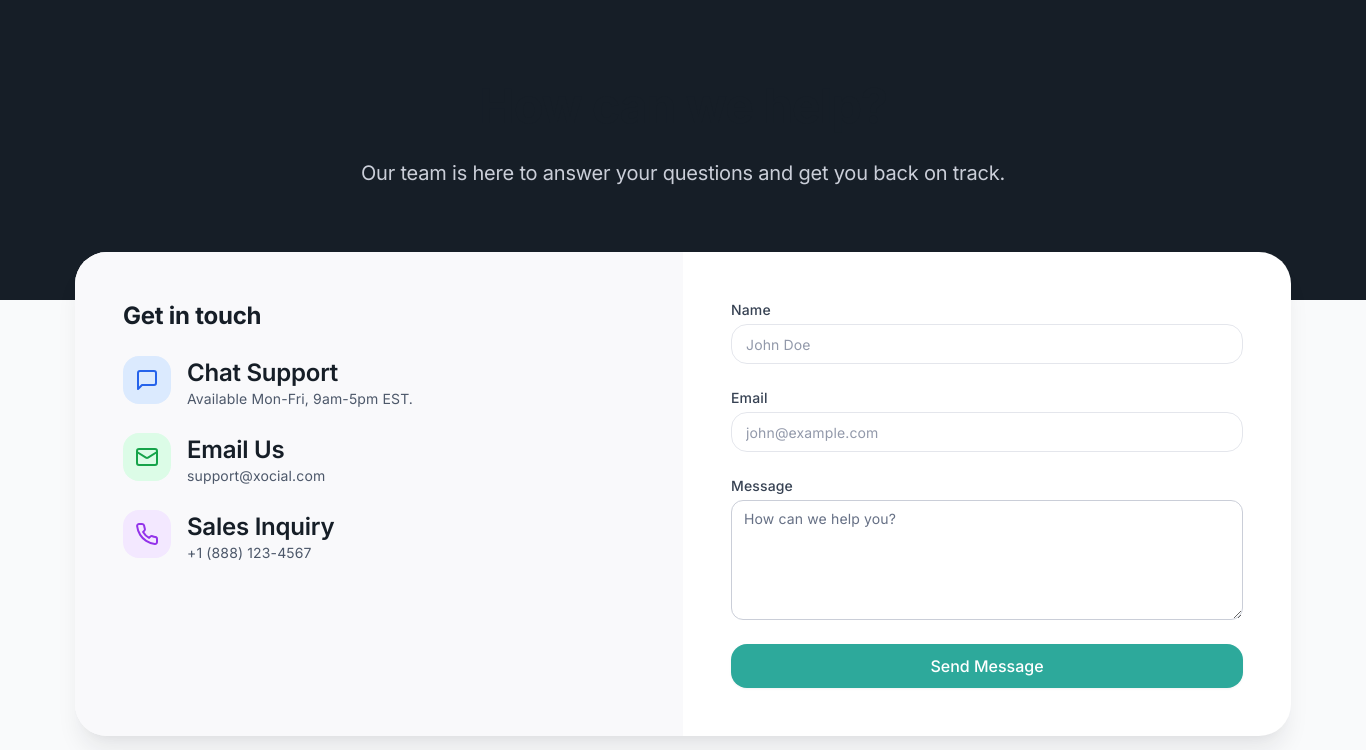
SupportPage › submits the support form and shows success
In the field labelled "Name": [987, 344] box x1=731 y1=324 x2=1243 y2=364, type "Jane"
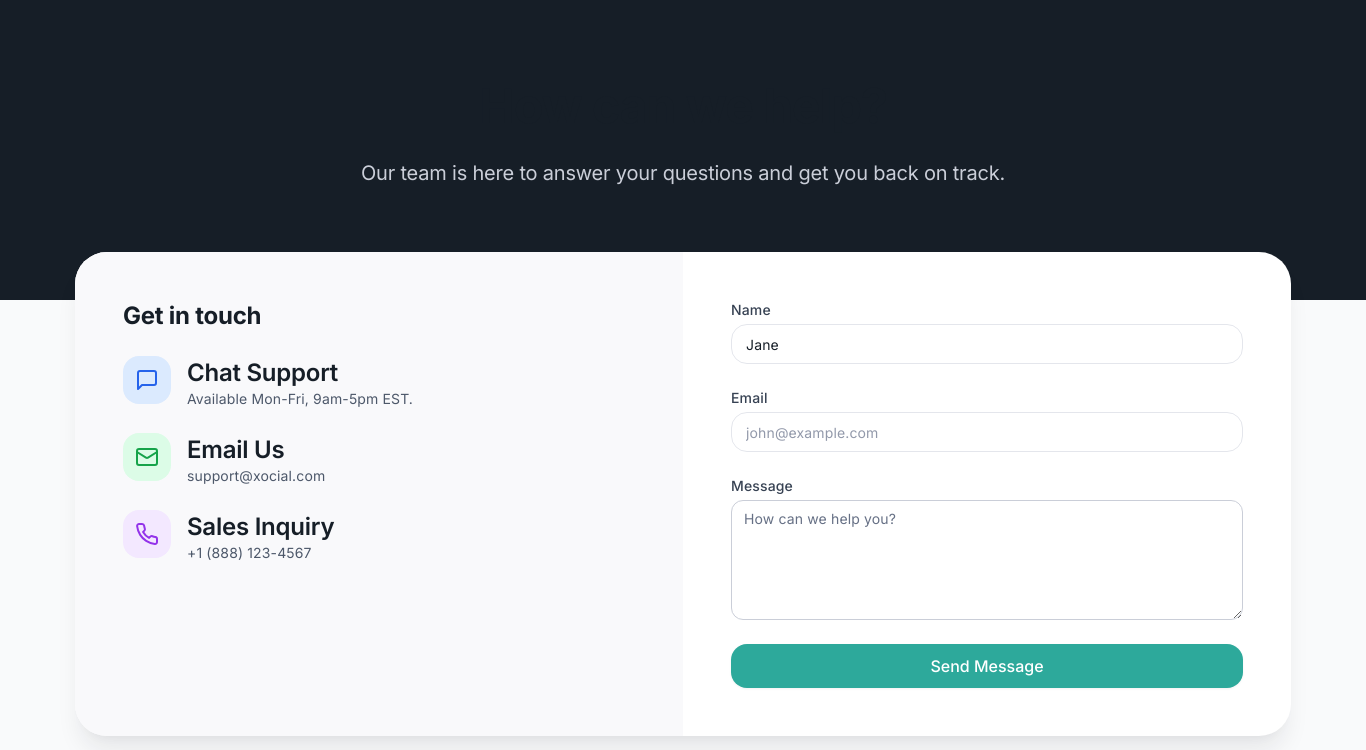
In the field labelled "Email": [987, 432] box x1=731 y1=412 x2=1243 y2=452, type "jane@example.com"
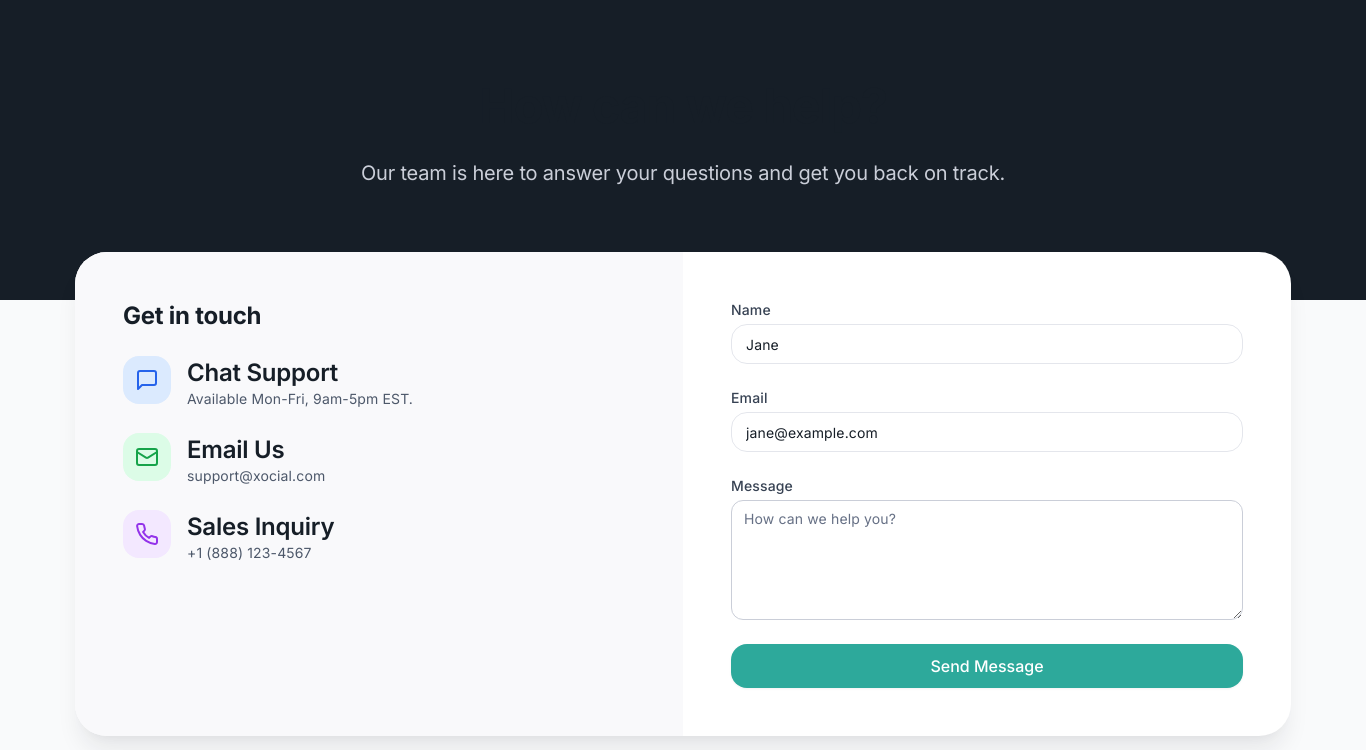
In the text box labelled "Message": [987, 560] box x1=731 y1=500 x2=1243 y2=620, type "Help"
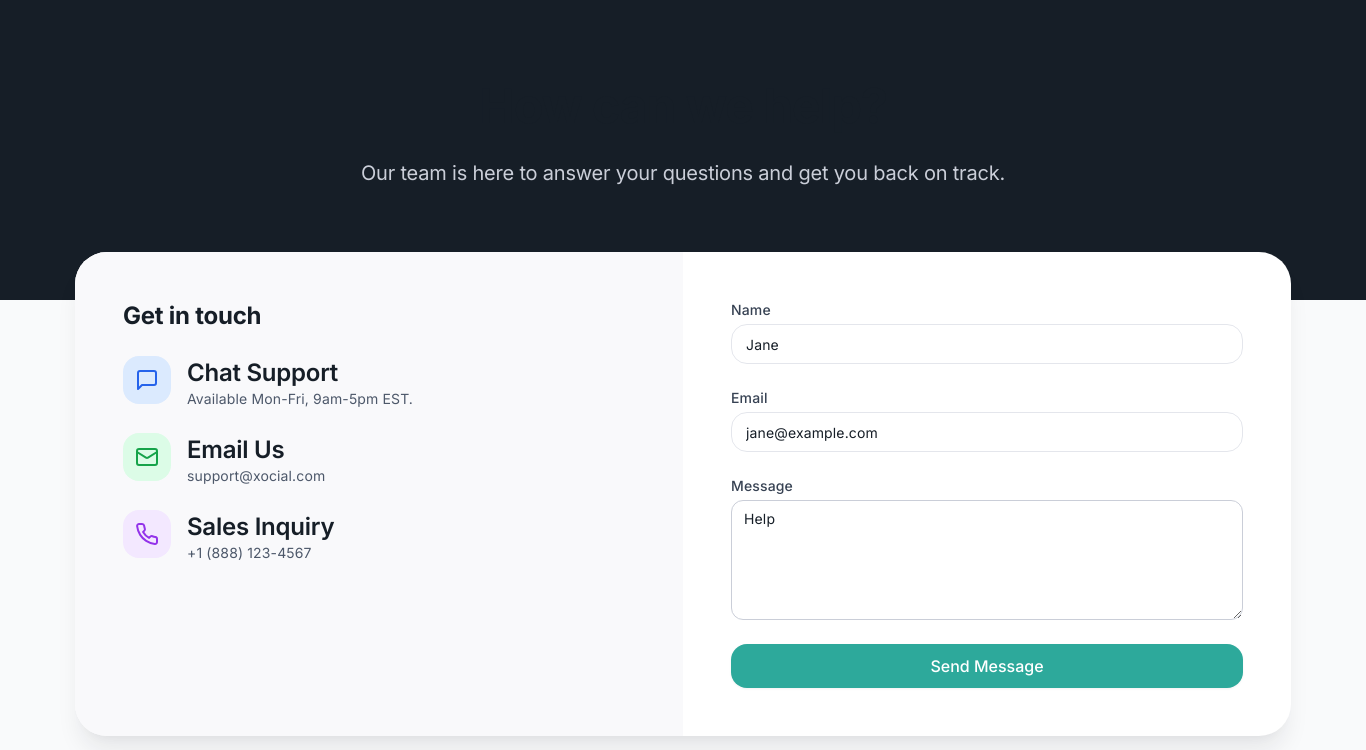
Click the button "Send Message": [987, 666] box x1=731 y1=644 x2=1243 y2=688
(page scrolled)
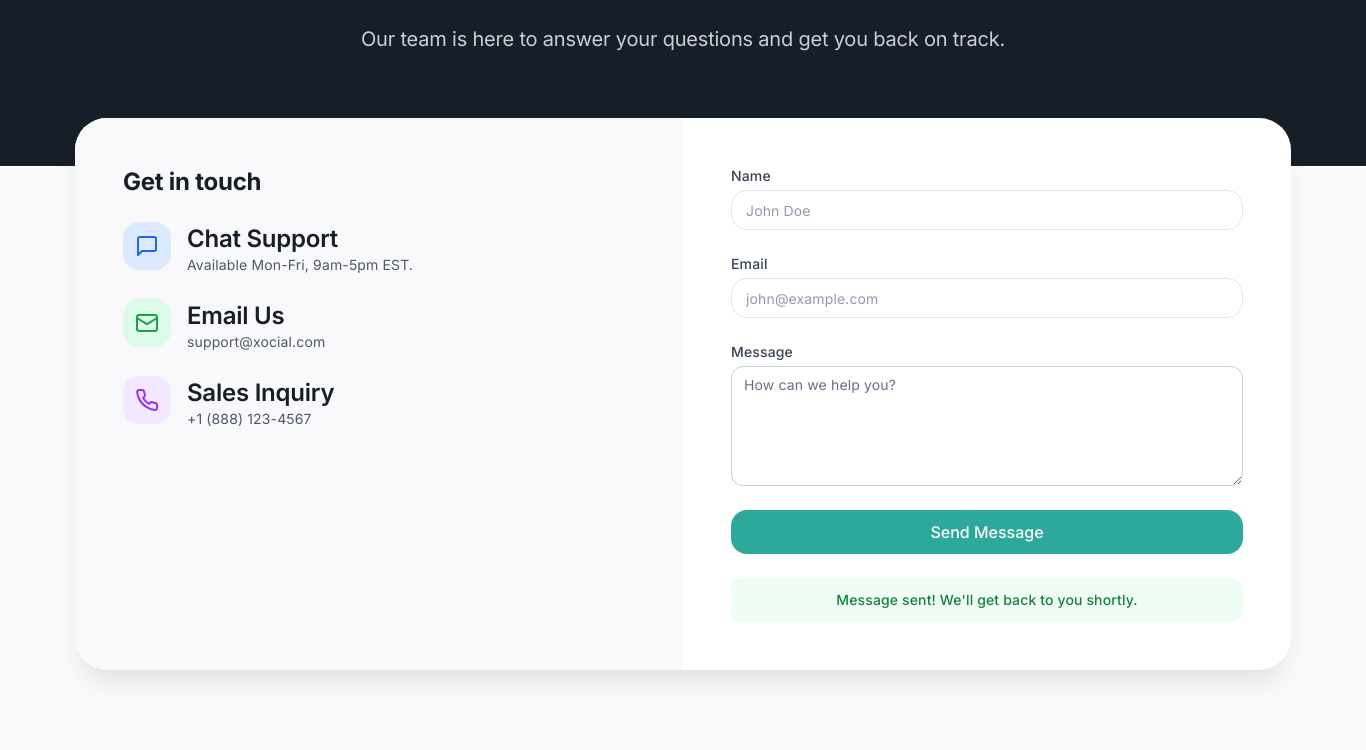
expect the text "Message sent! We'll get back to you shortly." is shown: met, box x1=731 y1=578 x2=1243 y2=622
